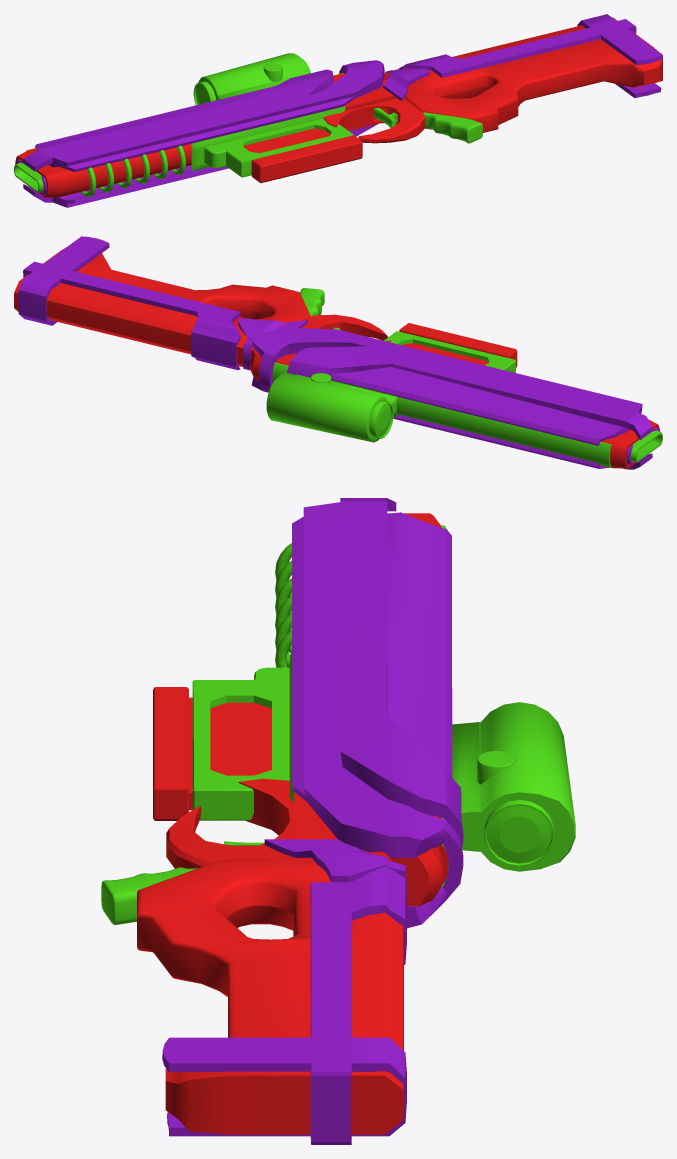
Rendered from Rifle.FBX.
3 views of the same model, one above another, from view 1: azimuth 30°, elevation 25°; view 2: azimuth 150°, elevation 25°; view 3: azimuth 270°, elevation 25° (orthographic). The views are drawn at different scales.
Visible parts, largest first — view 1: Inner barrel_LP, Barrel Shell_LP, Parts_LP; view 2: Barrel Shell_LP, Inner barrel_LP, Parts_LP; view 3: Barrel Shell_LP, Inner barrel_LP, Parts_LP.
Part boxes in pixels (<box>): Inner barrel_LP: <box>15,17,662,197</box>; Barrel Shell_LP: <box>15,14,662,207</box>; Parts_LP: <box>14,53,482,197</box>; Barrel Shell_LP: <box>18,236,660,469</box>; Inner barrel_LP: <box>14,248,659,468</box>; Parts_LP: <box>266,288,662,467</box>; Barrel Shell_LP: <box>162,498,463,1144</box>; Inner barrel_LP: <box>137,513,448,1134</box>; Parts_LP: <box>101,525,575,924</box>.
Size of the model in its own units: 716 by 52.71 by 247.
